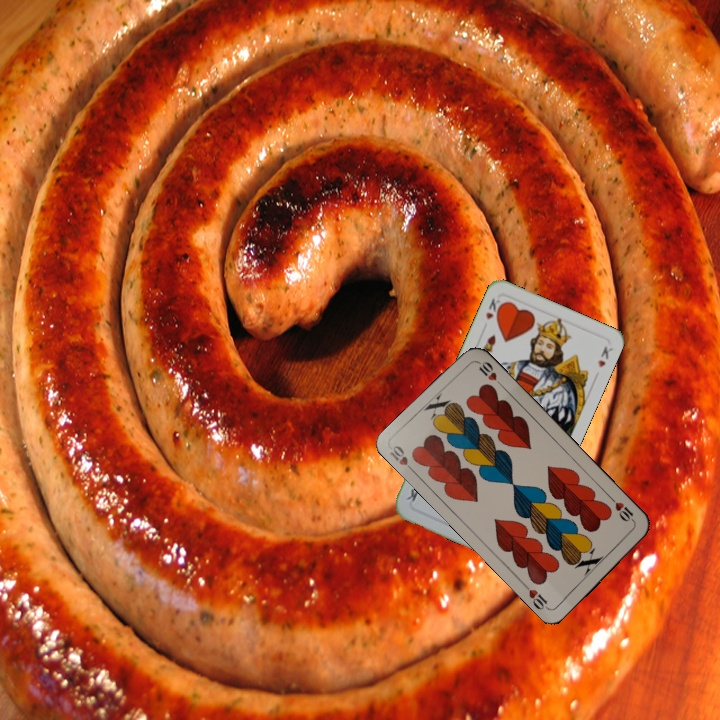H10: (385, 441, 418, 476), (606, 493, 638, 526)
HK: (481, 294, 506, 322)
